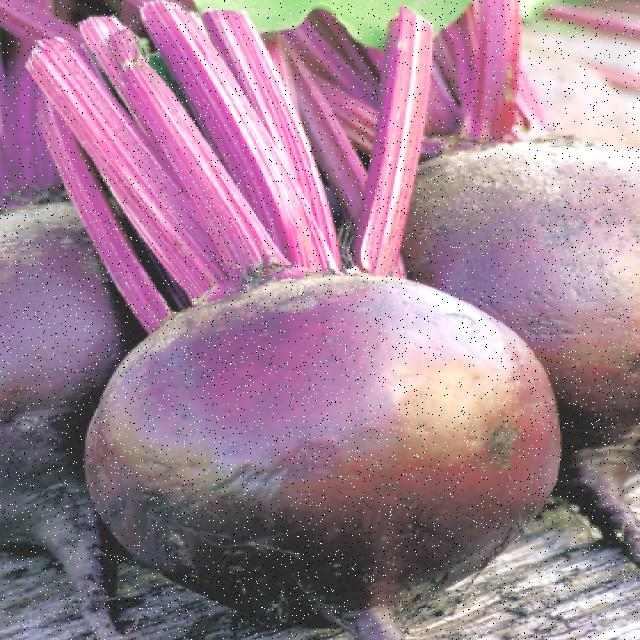Beetroot: (51, 270, 570, 640)
